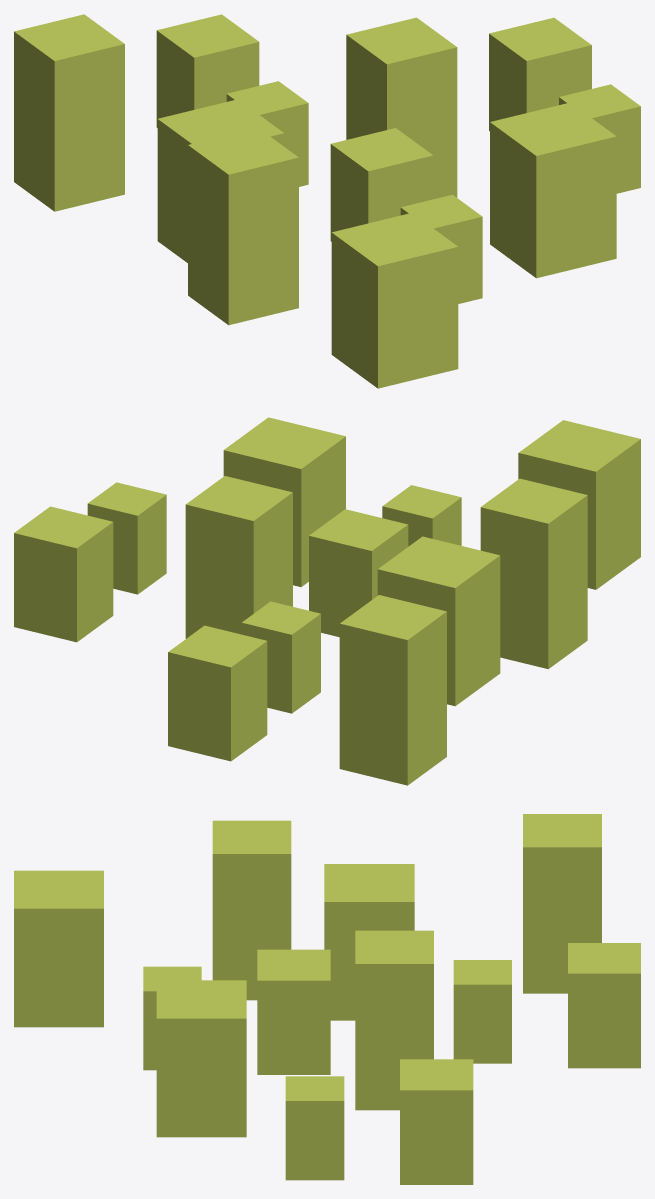
Rendered from fbx_grass01.fbx.
3 views of the same model, one above another, from view 1: azimuth 30°, elevation 25°; view 2: azimuth 150°, elevation 25°; view 3: azimuth 270°, elevation 25° (orthographic). The views are drawn at different scales.
Visible parts, largest first — view 1: sm_grass01; view 2: sm_grass01; view 3: sm_grass01.
Boxes of the visible parts, x1,y1,x2,y2 form: sm_grass01: [14, 14, 640, 388]; sm_grass01: [14, 417, 640, 785]; sm_grass01: [14, 814, 640, 1184].
Size of the model in its own units: 35.18 by 10.68 by 41.5.
